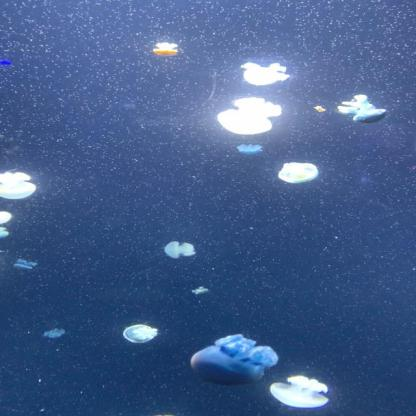jellyfish: (188, 335, 276, 387), (214, 98, 282, 136), (268, 376, 333, 409), (338, 94, 389, 125), (242, 63, 290, 86), (0, 173, 37, 200), (276, 162, 321, 184), (122, 324, 159, 346), (164, 240, 193, 259), (152, 43, 180, 57), (236, 146, 264, 154), (0, 211, 14, 226), (12, 263, 34, 271), (0, 227, 11, 242), (44, 330, 63, 338), (195, 288, 210, 296)
